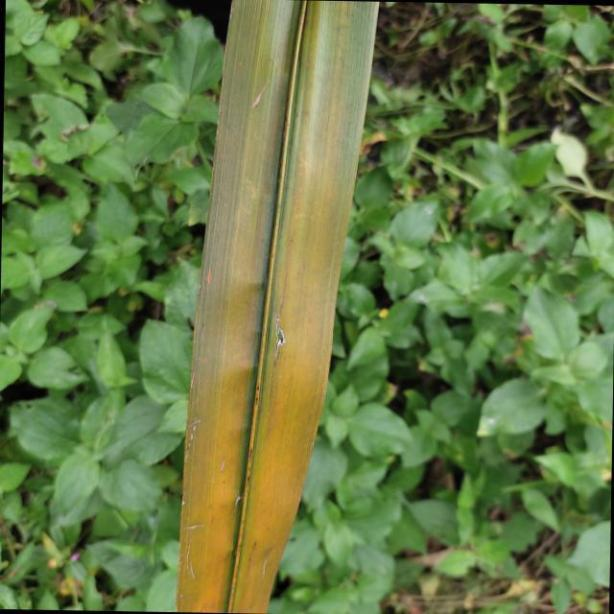Megnesium: (182, 0, 381, 614)
